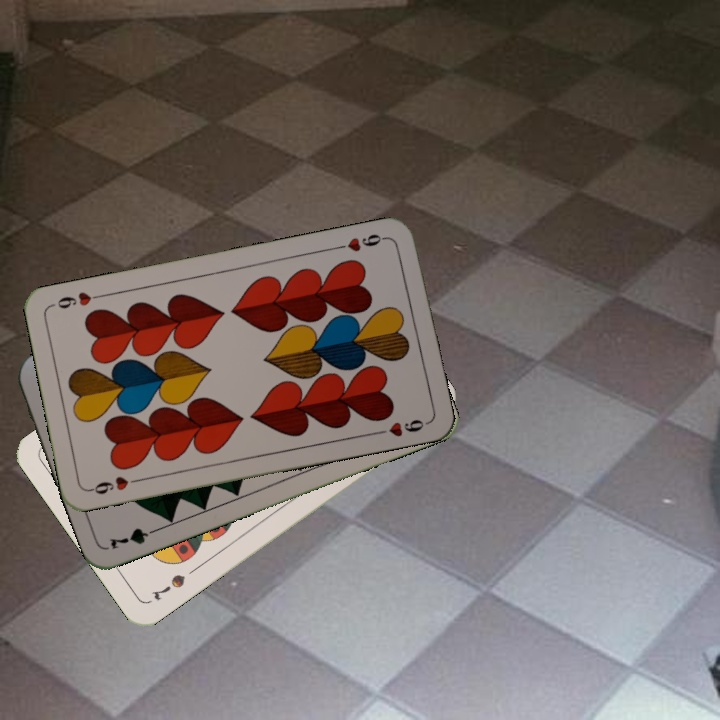G7: (105, 523, 164, 552)
H9: (85, 472, 144, 497), (332, 230, 391, 254)
S7: (147, 569, 188, 603)
